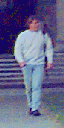person: (7, 15, 51, 116)
